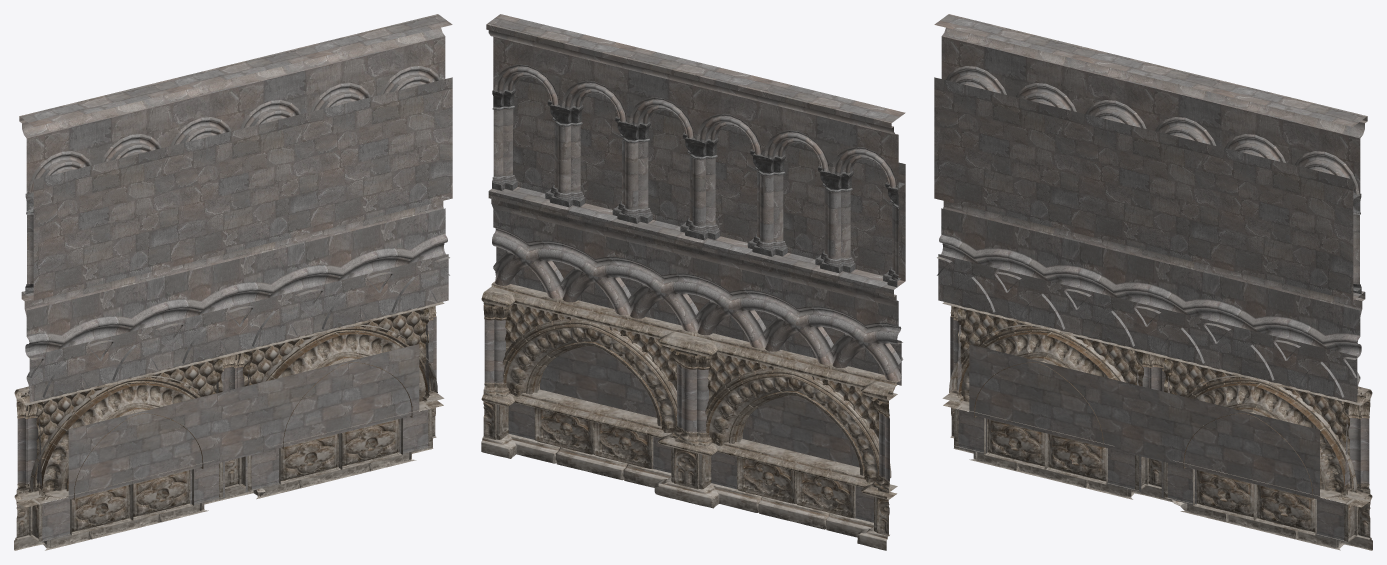
3 views of the same model, side by side, from view 1: azimuth 30°, elevation 25°; view 2: azimuth 150°, elevation 25°; view 3: azimuth 330°, elevation 25° (orthographic). The views are drawn at different scales.
Parts seen in each view (by area): view 1: SM_DungeonWall_v2_LOD0; view 2: SM_DungeonWall_v2_LOD0; view 3: SM_DungeonWall_v2_LOD0.
Part boxes in pixels (bbox=[...]): SM_DungeonWall_v2_LOD0: bbox=[14, 14, 452, 550]; SM_DungeonWall_v2_LOD0: bbox=[481, 14, 905, 550]; SM_DungeonWall_v2_LOD0: bbox=[934, 14, 1372, 550].
Size of the model in its own units: 6 by 6 by 0.4955.
Materials: 5 (5 with a texture image).
